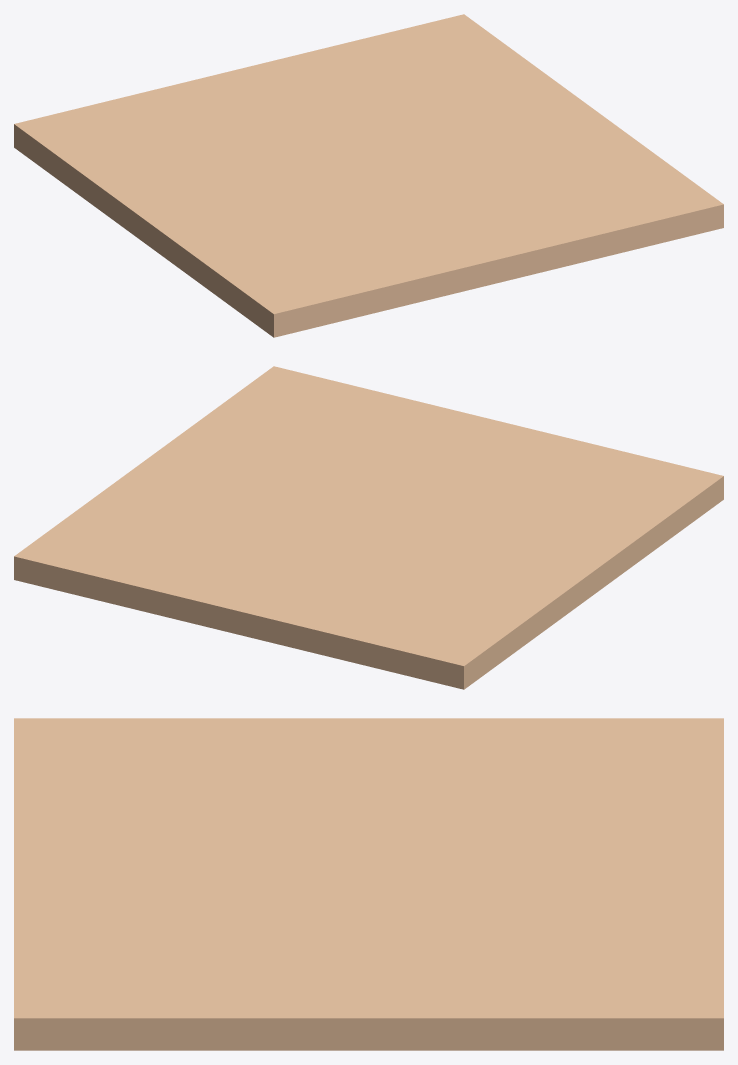
File: floor.fbx
The picture shows the model from 3 angles, top to bottom: view 1: azimuth 30°, elevation 25°; view 2: azimuth 150°, elevation 25°; view 3: azimuth 270°, elevation 25°; orthographic projection. The views are drawn at different scales.
Visible parts, largest first — view 1: floor; view 2: floor; view 3: floor.
Boxes of the visible parts, x1=… form: floor: x1=14, y1=14, x2=723, y2=337; floor: x1=14, y1=366, x2=723, y2=689; floor: x1=14, y1=718, x2=723, y2=1050.
Size of the model in its own units: 100 by 100 by 5.
